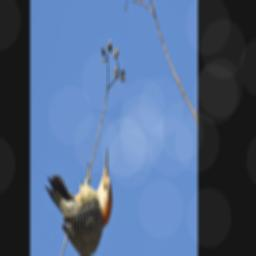Woodpecker: (43, 141, 118, 256)
